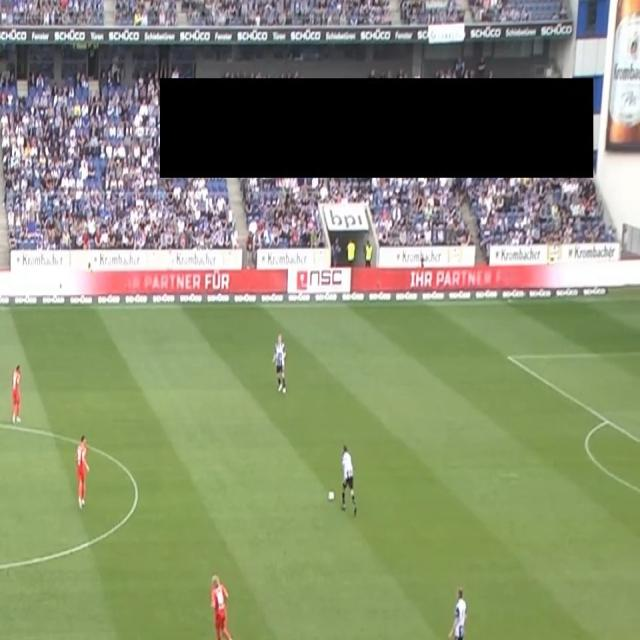ball: (326, 488, 336, 503)
